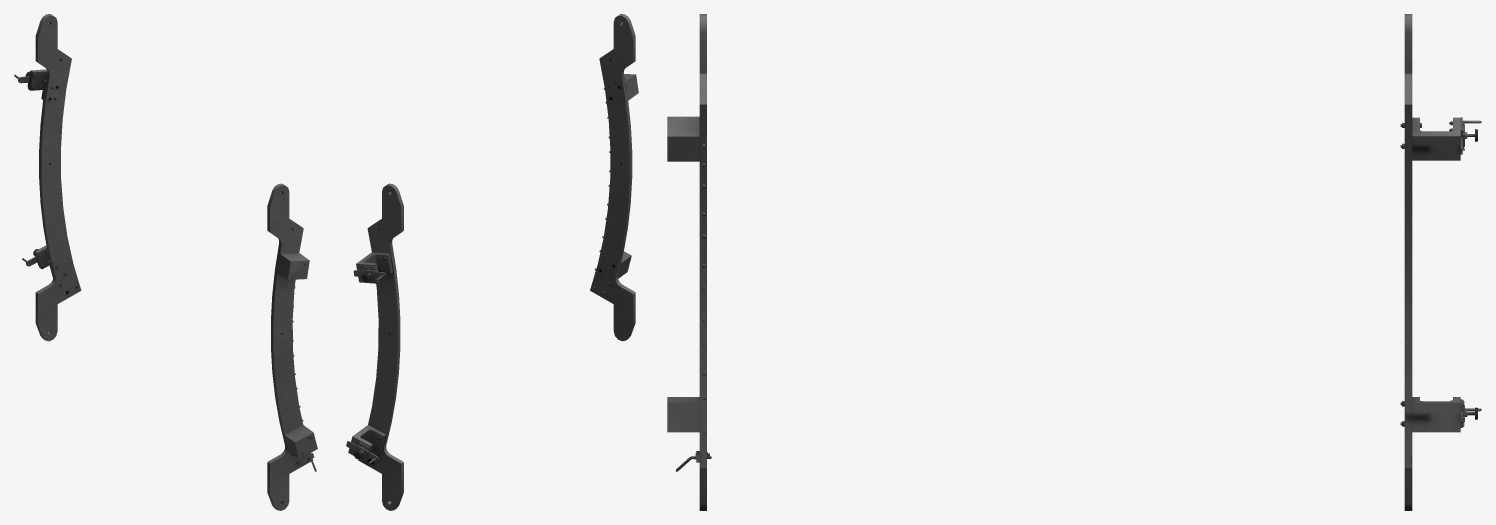
Rendered from FixPart01.FBX.
3 renders of one model, left to right at view 1: azimuth 30°, elevation 25°; view 2: azimuth 150°, elevation 25°; view 3: azimuth 270°, elevation 25°, orthographic. The views are drawn at different scales.
Parts seen in each view (by area): view 1: BaseInt11, BaseInt15; view 2: BaseInt11, BaseInt15; view 3: BaseInt11, BaseInt15.
Boxes of the visible parts, x1,y1,x2,y2 form: BaseInt11: (14,14,81,341); BaseInt15: (267,183,317,510); BaseInt11: (346,183,403,510); BaseInt15: (590,14,638,341); BaseInt11: (1400,14,1481,510); BaseInt15: (667,14,706,510).
Size of the model in its own units: 206 by 2148 by 1440.
